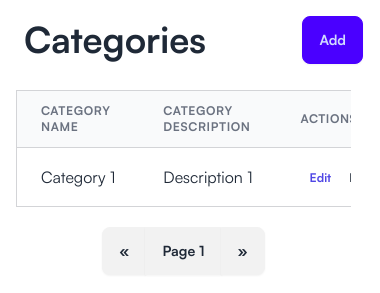
Test: CategoryList Component › handles pagination controls
Expected: the button "Page 1" is shown, top-left (146, 227), bottom-right (222, 275)
Click the button "»" at (243, 251), box top-left (220, 227), bottom-right (265, 275)
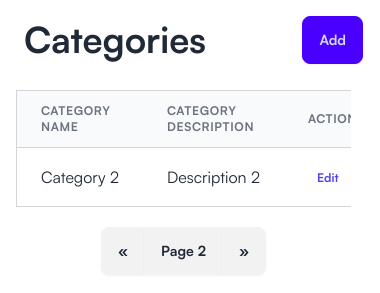
Result: the button "Page 2" is shown at top-left (144, 227), bottom-right (223, 275)
Click the button "«" at (123, 251), box top-left (101, 227), bottom-right (145, 275)
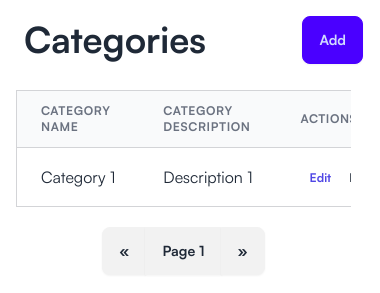
Result: the button "Page 1" is shown at top-left (146, 227), bottom-right (222, 275)
